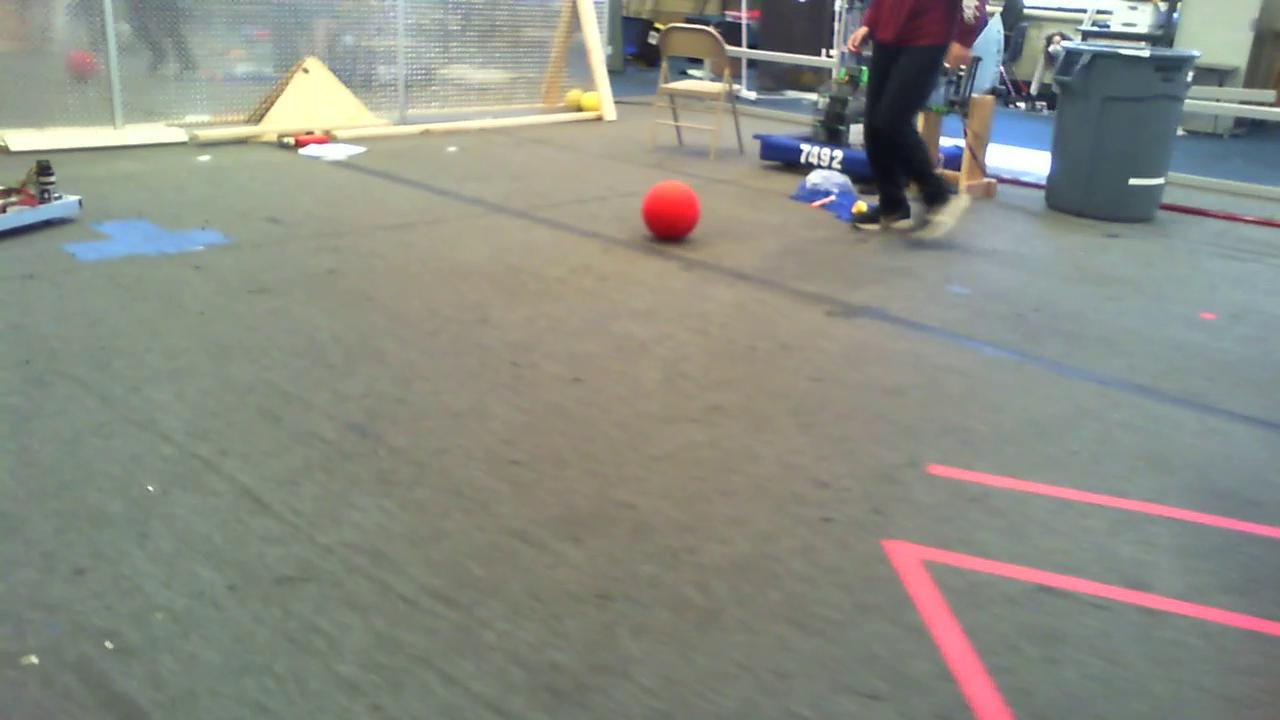Red_Ball: (631, 179, 703, 244)
